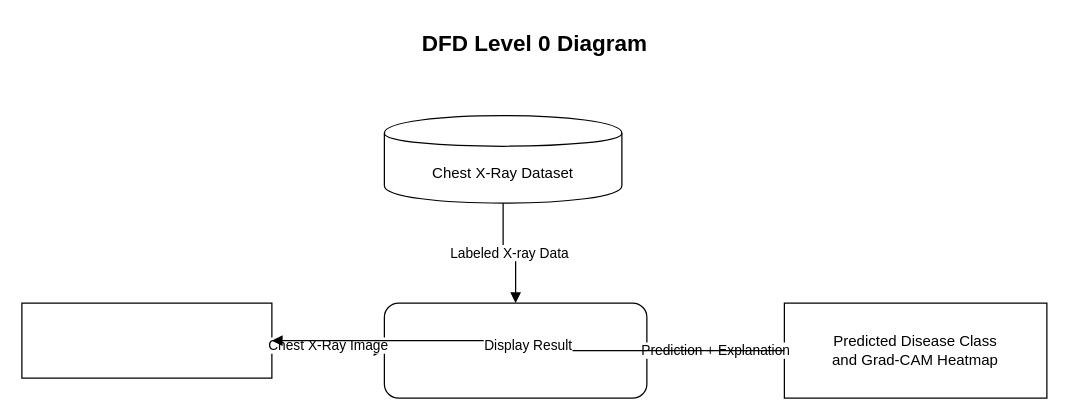
Image size: 1069x420. Some labels were removed from this diagram. The shapes that lost their labels are listed below. From the top down, each one's centre as x and y in pixels, then its label:
point (146, 340): User / Researcher
point (515, 350): 0.0 Chest X-Ray Disease Classification System
